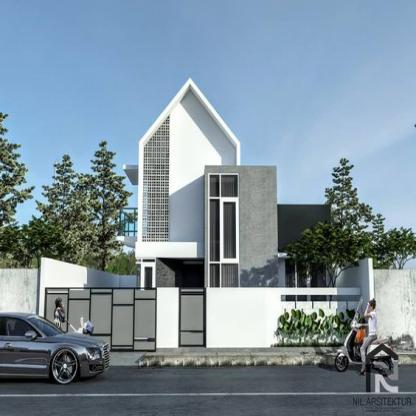Balcony: (119, 209, 146, 236)
Building Outline: (38, 76, 375, 352)
Facade: (115, 76, 334, 352)
Floor Slab: (136, 242, 205, 258)
Glass Wall: (210, 175, 238, 317)
Window: (286, 260, 306, 311), (137, 260, 154, 317), (310, 262, 324, 311)
